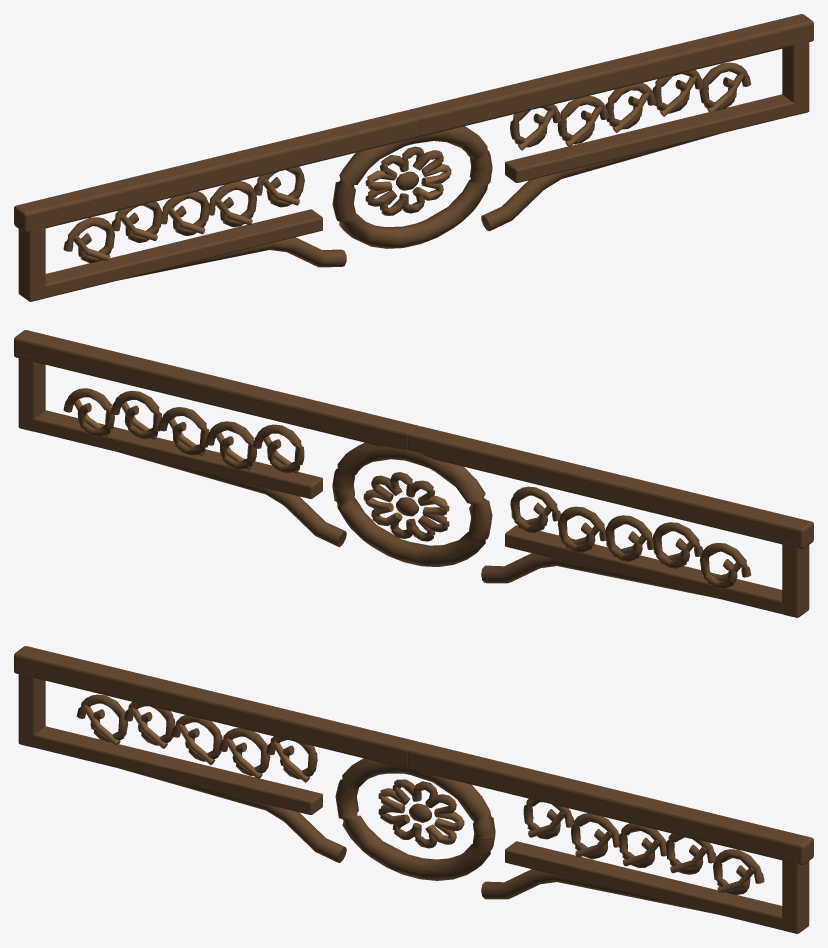
Rendered from plaque.glb.
3 renders of one model, top to bottom at view 1: azimuth 30°, elevation 25°; view 2: azimuth 150°, elevation 25°; view 3: azimuth 330°, elevation 25°, orthographic.
Parts seen in each view (by area): view 1: Tianjin_plaque; view 2: Tianjin_plaque; view 3: Tianjin_plaque.
Boxes of the visible parts, x1,y1,x2,y2 form: Tianjin_plaque: [14, 14, 813, 301]; Tianjin_plaque: [14, 330, 813, 617]; Tianjin_plaque: [14, 646, 813, 933].
Size of the model in its own units: 2.97 by 0.4858 by 0.1022.
